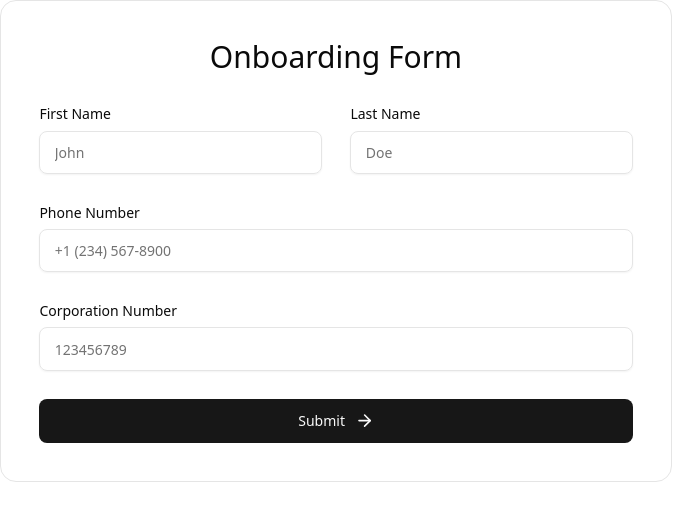
Scenario: OnboardingForm › Last Name Validation › should show error when last name is empty on blur
Step 1. Click the field labelled "Last Name" → click(492, 152), box x1=350 y1=131 x2=633 y2=174
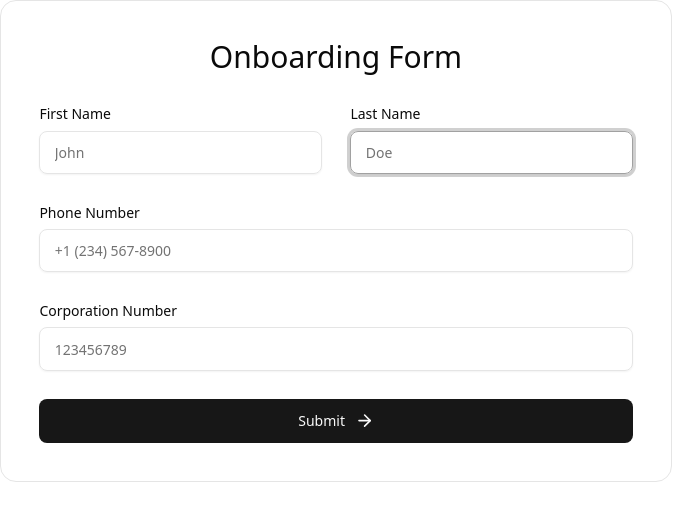
Step 2. Press Tab
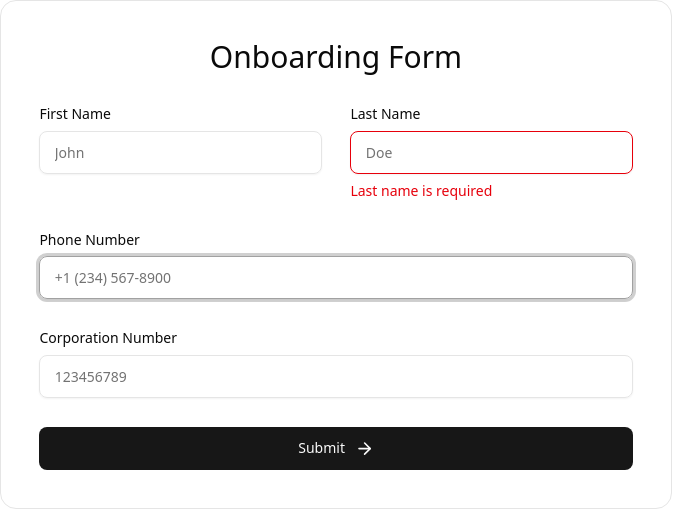
Result: the text "Last name is required" is shown at x1=350 y1=181 x2=492 y2=200
